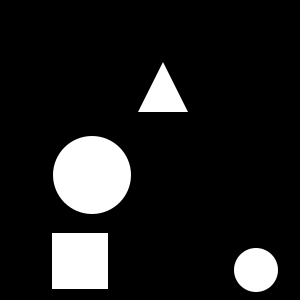circle: (52, 233, 108, 289)
rectangle: (53, 136, 131, 214), (234, 248, 278, 292)
triangle: (138, 62, 188, 112)
